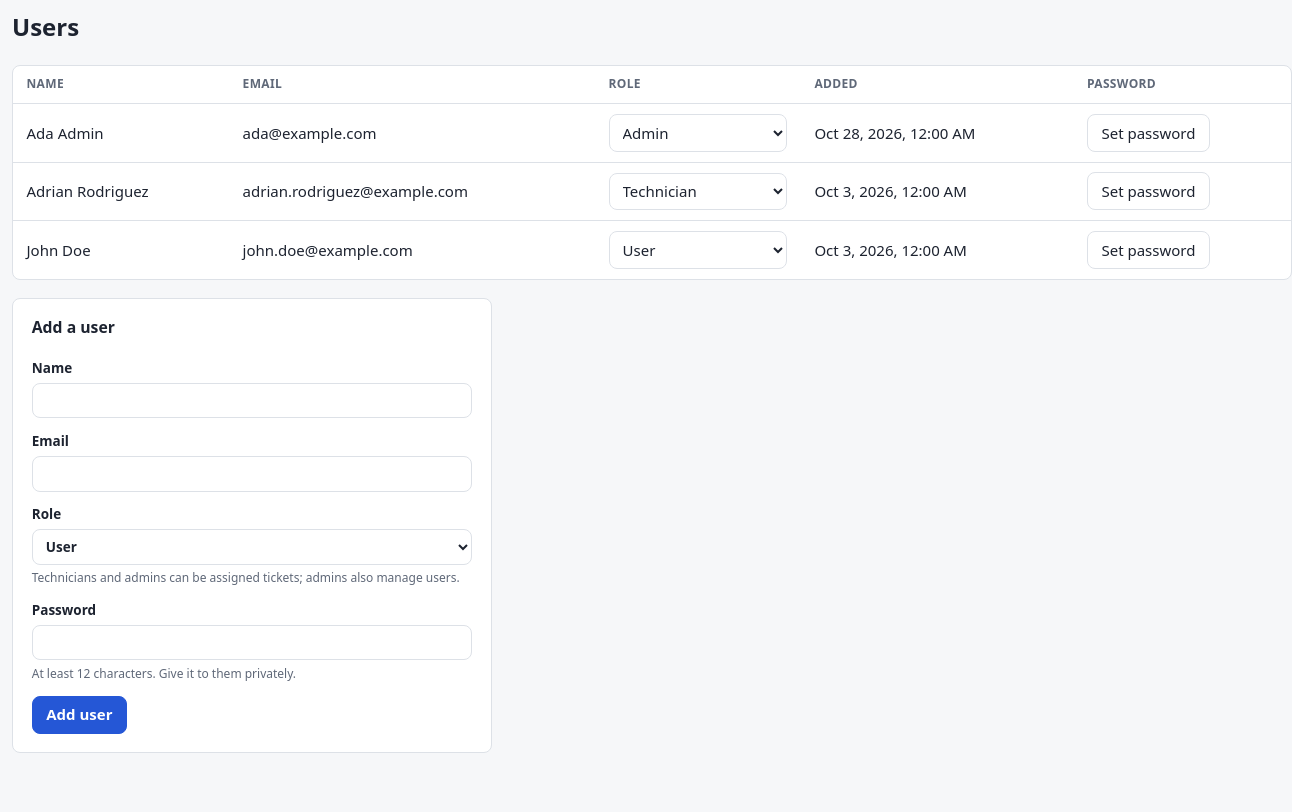
UsersPage › lets an admin change a role and shows the API's refusal
Select "Technician" in the dropdown named "Role for John Doe": (698, 250) [608,231,787,268]
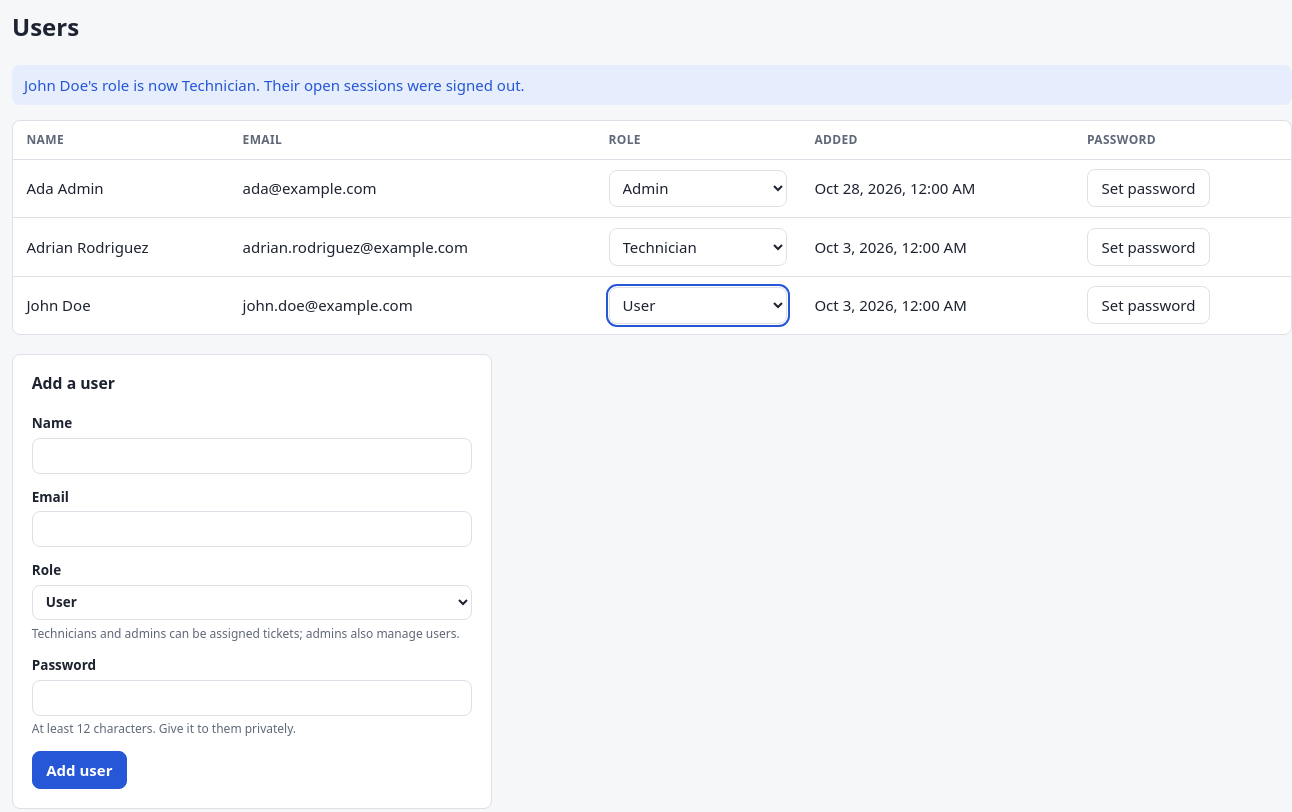
Result: the text "John Doe's role is now Technician" is shown at [24,74,525,94]
Select "User" in the dropdown named "Role for Ada Admin": (698, 188) [608,170,787,207]
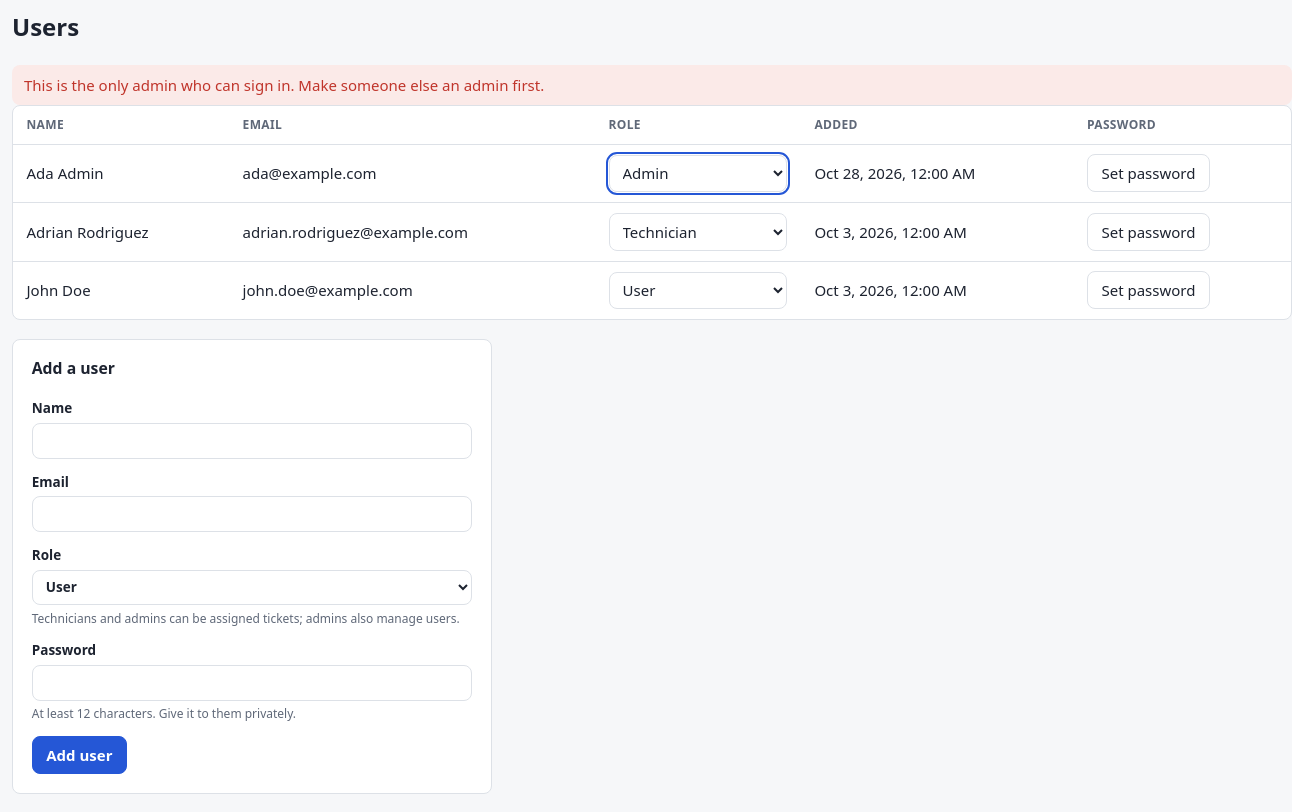
Result: the message shows "This is the only admin who can sign in." at [24,74,544,94]
